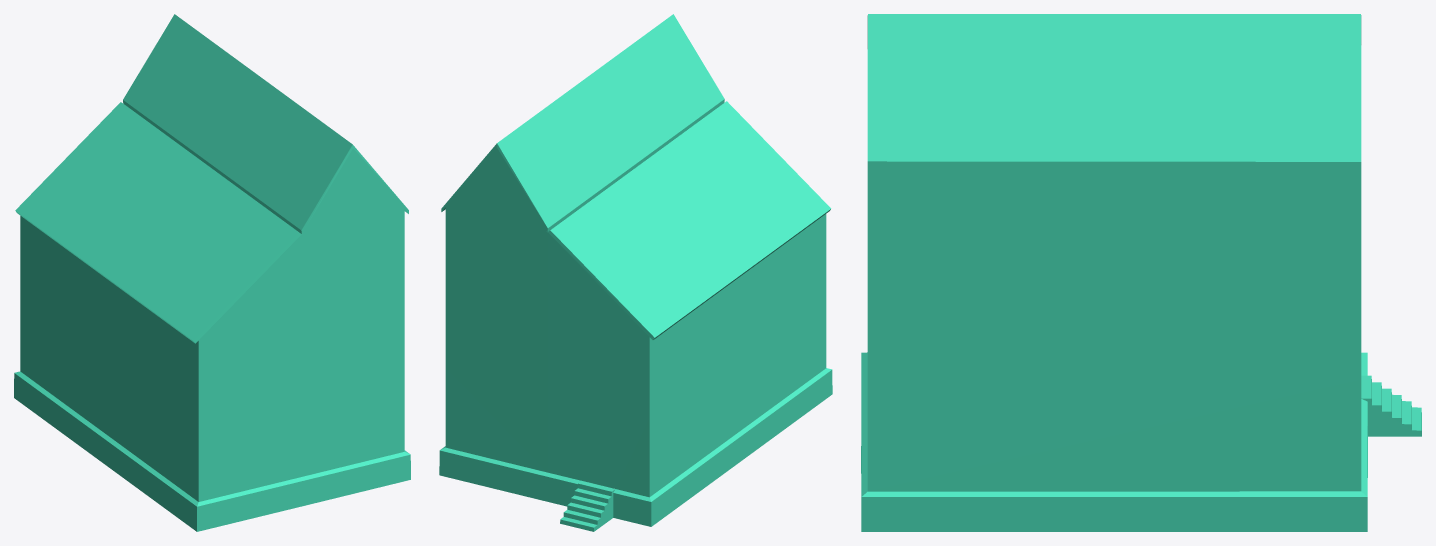
File: SubUrb2_Collision.fbx
3 views of the same model, side by side, from view 1: azimuth 30°, elevation 25°; view 2: azimuth 150°, elevation 25°; view 3: azimuth 270°, elevation 25° (orthographic). The views are drawn at different scales.
Parts seen in each view (by area): view 1: SubUrb2_Collision; view 2: SubUrb2_Collision; view 3: SubUrb2_Collision.
Boxes of the visible parts, x1,y1,x2,y2 form: SubUrb2_Collision: (14,14,410,531); SubUrb2_Collision: (439,14,832,531); SubUrb2_Collision: (861,14,1421,531).
Bounding box in the file's own units: 8.33 × 12.83 × 13.57.
